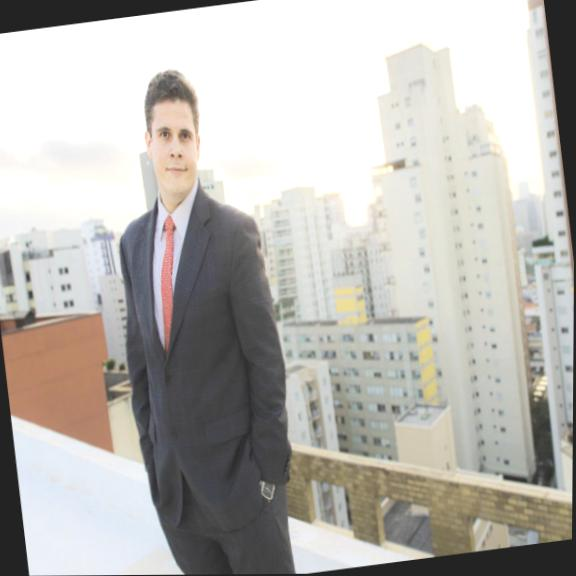no_safety_vest: (97, 175, 315, 547)
